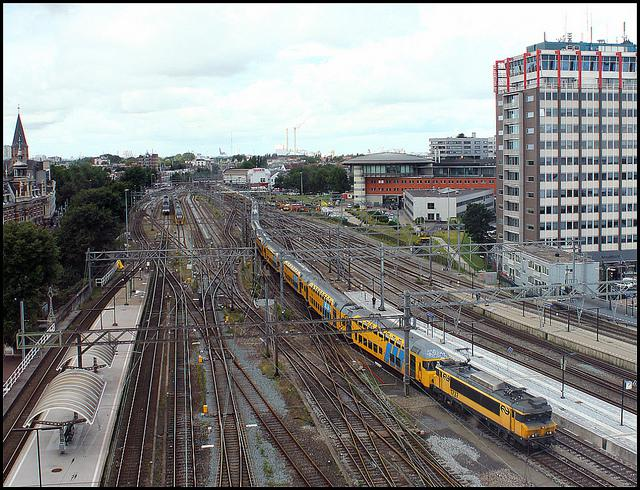Train: (241, 224, 572, 461), (172, 190, 185, 226), (163, 196, 171, 217)
